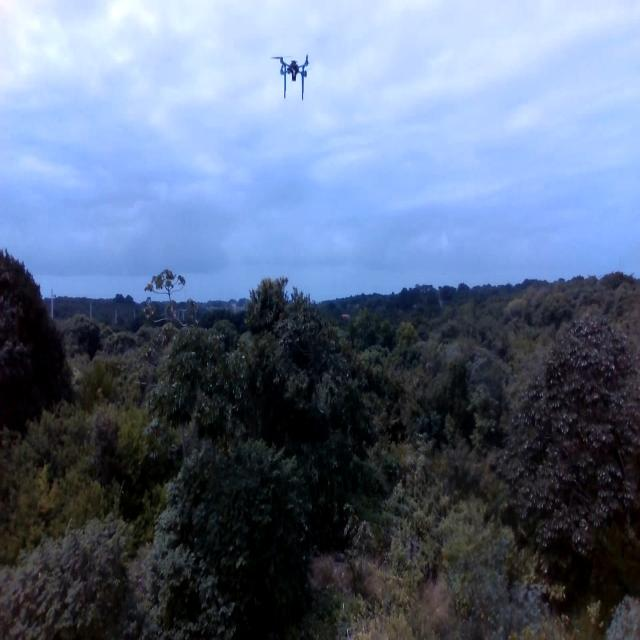-uav-: (266, 45, 328, 108)
